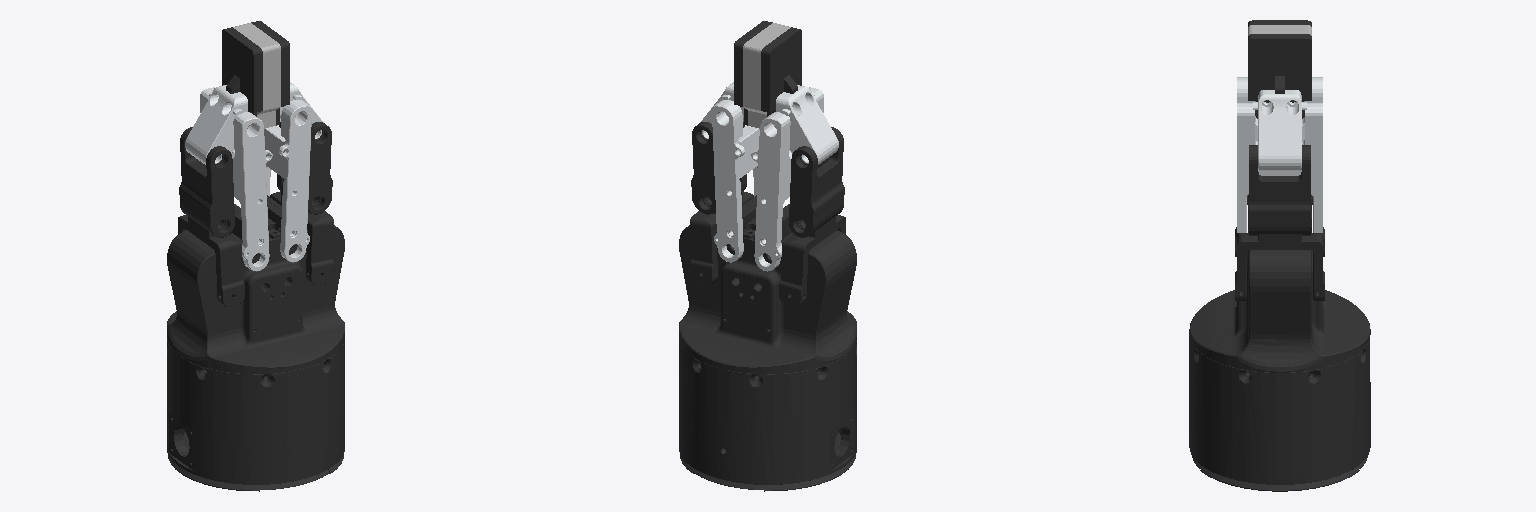
The robot description file, URDF, robot "eg01_p5_5_sw2urdf":
<?xml version="1.0" encoding="utf-8"?>
<!-- This URDF was automatically created by SolidWorks to URDF Exporter! Originally created by [author] ([email redacted]) 
     Commit Version: 1.6.0-4-g7f85cfe  Build Version: 1.6.7995.38578
     For more information, please see http://wiki.ros.org/sw_urdf_exporter -->
<robot
  name="eg01_p5_5_sw2urdf">

  <mujoco>
    <compiler meshdir="..\meshes" balanceinertia="false" discardvisual="false"/>
  </mujoco>

  <link
    name="base_link">
    <inertial>
      <origin
        xyz="7.44593792469313E-05 -6.05931377825923E-06 0.0539848053485706"
        rpy="0 0 0" />
      <mass
        value="0.429582066230593" />
      <inertia
        ixx="0.00029896106299929"
        ixy="-8.6388093366694E-12"
        ixz="6.23679934372197E-07"
        iyy="0.000399300131753147"
        iyz="-1.89873022075268E-08"
        izz="0.000413954589740284" />
    </inertial>
    <visual>
      <origin
        xyz="0 0 0"
        rpy="0 0 0" />
      <geometry>
        <mesh
          filename="package://eg01_p5_5_sw2urdf/meshes/base_link.STL" />
      </geometry>
      <material
        name="">
        <color
          rgba="0.250980392156863 0.250980392156863 0.250980392156863 1" />
      </material>
    </visual>
    <collision>
      <origin
        xyz="0 0 0"
        rpy="0 0 0" />
      <geometry>
        <mesh
          filename="package://eg01_p5_5_sw2urdf/meshes/base_link.STL" />
      </geometry>
    </collision>
  </link>
  <link
    name="Left_L1">
    <inertial>
      <origin
        xyz="1.43904098387493E-07 -3.34855326372341E-09 0.0211387998971081"
        rpy="0 0 0" />
      <mass
        value="0.0202960488980778" />
      <inertia
        ixx="6.30266208191649E-06"
        ixy="4.47538448710154E-13"
        ixz="-2.98133851271058E-09"
        iyy="2.92633983907152E-06"
        iyz="8.34664732796819E-14"
        izz="3.87087931140996E-06" />
    </inertial>
    <visual>
      <origin
        xyz="0 0 0"
        rpy="0 0 0" />
      <geometry>
        <mesh
          filename="package://eg01_p5_5_sw2urdf/meshes/Left_L1.STL" />
      </geometry>
      <material
        name="">
        <color
          rgba="0.250980392156863 0.250980392156863 0.250980392156863 1" />
      </material>
    </visual>
    <collision>
      <origin
        xyz="0 0 0"
        rpy="0 0 0" />
      <geometry>
        <mesh
          filename="package://eg01_p5_5_sw2urdf/meshes/Left_L1.STL" />
      </geometry>
    </collision>
  </link>
  <joint
    name="Left_J1"
    type="revolute">
    <origin
      xyz="-0.0240000499523323 0 0.095699997817228"
      rpy="0 -0.0436685838558384 0" />
    <parent
      link="base_link" />
    <child
      link="Left_L1" />
    <axis
      xyz="0 1 0" />
    <limit
      lower="-1.571"
      upper="1.571"
      effort="50"
      velocity="50" />
  </joint>
  <link
    name="Left_L2">
    <inertial>
      <origin
        xyz="-0.000647192263089253 -2.92503751228311E-09 0.0156751455321069"
        rpy="0 0 0" />
      <mass
        value="0.0233775173353231" />
      <inertia
        ixx="4.19195319592145E-06"
        ixy="3.5171463174931E-14"
        ixz="-9.51967476259919E-08"
        iyy="2.33740847027707E-06"
        iyz="1.09337582141081E-12"
        izz="2.50717767452369E-06" />
    </inertial>
    <visual>
      <origin
        xyz="0 0 0"
        rpy="0 0 0" />
      <geometry>
        <mesh
          filename="package://eg01_p5_5_sw2urdf/meshes/Left_L2.STL" />
      </geometry>
      <material
        name="">
        <color
          rgba="0.250980392156863 0.250980392156863 0.250980392156863 1" />
      </material>
    </visual>
    <collision>
      <origin
        xyz="0 0 0"
        rpy="0 0 0" />
      <geometry>
        <mesh
          filename="package://eg01_p5_5_sw2urdf/meshes/Left_L2.STL" />
      </geometry>
    </collision>
  </link>
  <joint
    name="Left_J2"
    type="revolute">
    <origin
      xyz="0 0 0.034"
      rpy="0 0 0" />
    <parent
      link="Left_L1" />
    <child
      link="Left_L2" />
    <axis
      xyz="0 -1 0" />
    <limit
      lower="-1.571"
      upper="1.571"
      effort="50"
      velocity="50" />
  </joint>
  <link
    name="Left_L3">
    <inertial>
      <origin
        xyz="-0.00116141401960185 -1.43012435769062E-10 0.0117955281118583"
        rpy="0 0 0" />
      <mass
        value="0.0213906199756841" />
      <inertia
        ixx="2.48837578509039E-06"
        ixy="2.56080541785578E-13"
        ixz="2.04680899233398E-07"
        iyy="2.14702464916587E-06"
        iyz="-4.91986473903457E-13"
        izz="1.08656518460548E-06" />
    </inertial>
    <visual>
      <origin
        xyz="0 0 0"
        rpy="0 0 0" />
      <geometry>
        <mesh
          filename="package://eg01_p5_5_sw2urdf/meshes/Left_L3.STL" />
      </geometry>
      <material
        name="">
        <color
          rgba="0.898039215686275 0.917647058823529 0.929411764705882 1" />
      </material>
    </visual>
    <collision>
      <origin
        xyz="0 0 0"
        rpy="0 0 0" />
      <geometry>
        <mesh
          filename="package://eg01_p5_5_sw2urdf/meshes/Left_L3.STL" />
      </geometry>
    </collision>
  </link>
  <joint
    name="Left_J3"
    type="revolute">
    <origin
      xyz="0 0 0.0339999999999633"
      rpy="0 0.79467972163649 0" />
    <parent
      link="Left_L2" />
    <child
      link="Left_L3" />
    <axis
      xyz="0 -1 0" />
    <limit
      lower="-1.571"
      upper="1.571"
      effort="50"
      velocity="50" />
  </joint>
  <link
    name="Left_finger_plate">
    <inertial>
      <origin
        xyz="-5.97922808132605E-16 -0.0164872120835624 -0.002511279045092"
        rpy="0 0 0" />
      <mass
        value="0.0154688456687465" />
      <inertia
        ixx="1.89407053897812E-06"
        ixy="1.19028961051229E-21"
        ixz="4.1112323618535E-23"
        iyy="1.10536981639249E-06"
        iyz="2.51854419537877E-08"
        izz="2.92180253260638E-06" />
    </inertial>
    <visual>
      <origin
        xyz="0 0 0"
        rpy="0 0 0" />
      <geometry>
        <mesh
          filename="package://eg01_p5_5_sw2urdf/meshes/Left_finger_plate.STL" />
      </geometry>
      <material
        name="">
        <color
          rgba="0.250980392156863 0.250980392156863 0.250980392156863 1" />
      </material>
    </visual>
    <collision>
      <origin
        xyz="0 0 0"
        rpy="0 0 0" />
      <geometry>
        <mesh
          filename="package://eg01_p5_5_sw2urdf/meshes/Left_finger_plate.STL" />
      </geometry>
    </collision>
  </link>
  <joint
    name="fix_Left_finger_plate"
    type="fixed">
    <origin
      xyz="0.000145845916247972 0 0.024760133131013"
      rpy="-2.32181150391728 0 1.5707963267949" />
    <parent
      link="Left_L3" />
    <child
      link="Left_finger_plate" />
    <axis
      xyz="0 0 0" />
  </joint>
  <link
    name="Left_finger_rubber">
    <inertial>
      <origin
        xyz="-5.97822322796637E-16 -0.0143595610551673 -0.00749999999984534"
        rpy="0 0 0" />
      <mass
        value="0.007592949952427" />
      <inertia
        ixx="1.13976905041448E-06"
        ixy="1.12778587533801E-21"
        ixz="-5.83235302222603E-23"
        iyy="5.29290272646812E-07"
        iyz="1.19374966327374E-17"
        izz="1.63742203159284E-06" />
    </inertial>
    <visual>
      <origin
        xyz="0 0 0"
        rpy="0 0 0" />
      <geometry>
        <mesh
          filename="package://eg01_p5_5_sw2urdf/meshes/Left_finger_rubber.STL" />
      </geometry>
      <material
        name="">
        <color
          rgba="0.752941176470588 0.752941176470588 0.752941176470588 1" />
      </material>
    </visual>
    <collision>
      <origin
        xyz="0 0 0"
        rpy="0 0 0" />
      <geometry>
        <mesh
          filename="package://eg01_p5_5_sw2urdf/meshes/Left_finger_rubber.STL" />
      </geometry>
    </collision>
  </link>
  <joint
    name="fix_Left_finger_rubber"
    type="fixed">
    <origin
      xyz="0 0 0"
      rpy="0 0 0" />
    <parent
      link="Left_finger_plate" />
    <child
      link="Left_finger_rubber" />
    <axis
      xyz="0 0 0" />
  </joint>
  <link
    name="Left_L4">
    <inertial>
      <origin
        xyz="-0.000775167366935376 1.18347949065981E-09 0.0401950668707313"
        rpy="0 0 0" />
      <mass
        value="0.0414352233342608" />
      <inertia
        ixx="2.23144284823025E-05"
        ixy="-1.08967853282723E-13"
        ixz="1.13022036160236E-08"
        iyy="1.3939971641353E-05"
        iyz="-6.14408384889434E-13"
        izz="9.29223699317336E-06" />
    </inertial>
    <visual>
      <origin
        xyz="0 0 0"
        rpy="0 0 0" />
      <geometry>
        <mesh
          filename="package://eg01_p5_5_sw2urdf/meshes/Left_L4.STL" />
      </geometry>
      <material
        name="">
        <color
          rgba="0.898039215686275 0.917647058823529 0.929411764705882 1" />
      </material>
    </visual>
    <collision>
      <origin
        xyz="0 0 0"
        rpy="0 0 0" />
      <geometry>
        <mesh
          filename="package://eg01_p5_5_sw2urdf/meshes/Left_L4.STL" />
      </geometry>
    </collision>
  </link>
  <joint
    name="Left_J4"
    type="revolute">
    <origin
      xyz="-0.01 0 0.1107"
      rpy="0 -0.0436332312998548 0" />
    <parent
      link="base_link" />
    <child
      link="Left_L4" />
    <axis
      xyz="0 1 0" />
    <limit
      lower="-1.571"
      upper="1.571"
      effort="50"
      velocity="50" />
  </joint>
  <link
    name="Right_L1">
    <inertial>
      <origin
        xyz="9.3904098392994E-08 -3.34855202920757E-09 0.0211387998970713"
        rpy="0 0 0" />
      <mass
        value="0.0202960488980778" />
      <inertia
        ixx="6.30266208191649E-06"
        ixy="4.47538448927079E-13"
        ixz="-2.98133851271068E-09"
        iyy="2.92633983907152E-06"
        iyz="8.34664727298746E-14"
        izz="3.87087931140995E-06" />
    </inertial>
    <visual>
      <origin
        xyz="0 0 0"
        rpy="0 0 0" />
      <geometry>
        <mesh
          filename="package://eg01_p5_5_sw2urdf/meshes/Right_L1.STL" />
      </geometry>
      <material
        name="">
        <color
          rgba="0.250980392156863 0.250980392156863 0.250980392156863 1" />
      </material>
    </visual>
    <collision>
      <origin
        xyz="0 0 0"
        rpy="0 0 0" />
      <geometry>
        <mesh
          filename="package://eg01_p5_5_sw2urdf/meshes/Right_L1.STL" />
      </geometry>
    </collision>
  </link>
  <joint
    name="Right_J1"
    type="revolute">
    <origin
      xyz="0.024 0 0.0957"
      rpy="0 -0.0436685838558384 -3.14159265358979" />
    <parent
      link="base_link" />
    <child
      link="Right_L1" />
    <axis
      xyz="0 -1 0" />
    <limit
      lower="-1.571"
      upper="1.571"
      effort="50"
      velocity="50" />
  </joint>
  <link
    name="Right_L2">
    <inertial>
      <origin
        xyz="-0.000647192263089246 -2.9250362334446E-09 0.0156751455321069"
        rpy="0 0 0" />
      <mass
        value="0.0233775173353231" />
      <inertia
        ixx="4.19195319592145E-06"
        ixy="3.51714625855283E-14"
        ixz="-9.51967476259913E-08"
        iyy="2.33740847027707E-06"
        iyz="1.09337582151108E-12"
        izz="2.50717767452369E-06" />
    </inertial>
    <visual>
      <origin
        xyz="0 0 0"
        rpy="0 0 0" />
      <geometry>
        <mesh
          filename="package://eg01_p5_5_sw2urdf/meshes/Right_L2.STL" />
      </geometry>
      <material
        name="">
        <color
          rgba="0.250980392156863 0.250980392156863 0.250980392156863 1" />
      </material>
    </visual>
    <collision>
      <origin
        xyz="0 0 0"
        rpy="0 0 0" />
      <geometry>
        <mesh
          filename="package://eg01_p5_5_sw2urdf/meshes/Right_L2.STL" />
      </geometry>
    </collision>
  </link>
  <joint
    name="Right_J2"
    type="revolute">
    <origin
      xyz="0 0 0.0339999999999633"
      rpy="0 0 0" />
    <parent
      link="Right_L1" />
    <child
      link="Right_L2" />
    <axis
      xyz="0 -1 0" />
    <limit
      lower="-1.571"
      upper="1.571"
      effort="50"
      velocity="50" />
  </joint>
  <link
    name="Right_L3">
    <inertial>
      <origin
        xyz="-0.00116141401960185 -1.43011183481417E-10 0.0117955281118583"
        rpy="0 0 0" />
      <mass
        value="0.021390619975684" />
      <inertia
        ixx="2.48837578509039E-06"
        ixy="2.56080541555241E-13"
        ixz="2.04680899233397E-07"
        iyy="2.14702464916586E-06"
        iyz="-4.91986474301754E-13"
        izz="1.08656518460548E-06" />
    </inertial>
    <visual>
      <origin
        xyz="0 0 0"
        rpy="0 0 0" />
      <geometry>
        <mesh
          filename="package://eg01_p5_5_sw2urdf/meshes/Right_L3.STL" />
      </geometry>
      <material
        name="">
        <color
          rgba="0.898039215686275 0.917647058823529 0.929411764705882 1" />
      </material>
    </visual>
    <collision>
      <origin
        xyz="0 0 0"
        rpy="0 0 0" />
      <geometry>
        <mesh
          filename="package://eg01_p5_5_sw2urdf/meshes/Right_L3.STL" />
      </geometry>
    </collision>
  </link>
  <joint
    name="Right_J3"
    type="revolute">
    <origin
      xyz="0 0 0.0339999999999633"
      rpy="0 0.79467972163649 0" />
    <parent
      link="Right_L2" />
    <child
      link="Right_L3" />
    <axis
      xyz="0 -1 0" />
    <limit
      lower="-1.571"
      upper="1.571"
      effort="50"
      velocity="50" />
  </joint>
  <link
    name="Right_finger_plate">
    <inertial>
      <origin
        xyz="5.93746999716511E-16 0.0164872222272687 0.00251121244759086"
        rpy="0 0 0" />
      <mass
        value="0.0154688456687465" />
      <inertia
        ixx="1.89407053897812E-06"
        ixy="1.14102606640059E-21"
        ixz="-7.58918965532505E-23"
        iyy="1.10537001988733E-06"
        iyz="2.5192779145447E-08"
        izz="2.92180232911153E-06" />
    </inertial>
    <visual>
      <origin
        xyz="0 0 0"
        rpy="0 0 0" />
      <geometry>
        <mesh
          filename="package://eg01_p5_5_sw2urdf/meshes/Right_finger_plate.STL" />
      </geometry>
      <material
        name="">
        <color
          rgba="0.250980392156863 0.250980392156863 0.250980392156863 1" />
      </material>
    </visual>
    <collision>
      <origin
        xyz="0 0 0"
        rpy="0 0 0" />
      <geometry>
        <mesh
          filename="package://eg01_p5_5_sw2urdf/meshes/Right_finger_plate.STL" />
      </geometry>
    </collision>
  </link>
  <joint
    name="fix_Right_finger_plate"
    type="fixed">
    <origin
      xyz="0.000145845916195486 0 0.0247601331310644"
      rpy="0.819785189014245 0 1.5707963267949" />
    <parent
      link="Right_L3" />
    <child
      link="Right_finger_plate" />
    <axis
      xyz="0 0 0" />
  </joint>
  <link
    name="Right_finger_rubber">
    <inertial>
      <origin
        xyz="-5.94583847513297E-16 -0.014359500464411 -0.00750011600625847"
        rpy="0 0 0" />
      <mass
        value="0.007592949952427" />
      <inertia
        ixx="1.13976905041448E-06"
        ixy="1.09592926202968E-21"
        ixz="8.72021221342692E-23"
        iyy="5.29290272719135E-07"
        iyz="-8.95225766266342E-12"
        izz="1.63742203152052E-06" />
    </inertial>
    <visual>
      <origin
        xyz="0 0 0"
        rpy="0 0 0" />
      <geometry>
        <mesh
          filename="package://eg01_p5_5_sw2urdf/meshes/Right_finger_rubber.STL" />
      </geometry>
      <material
        name="">
        <color
          rgba="0.752941176470588 0.752941176470588 0.752941176470588 1" />
      </material>
    </visual>
    <collision>
      <origin
        xyz="0 0 0"
        rpy="0 0 0" />
      <geometry>
        <mesh
          filename="package://eg01_p5_5_sw2urdf/meshes/Right_finger_rubber.STL" />
      </geometry>
    </collision>
  </link>
  <joint
    name="fix_Right_finger_rubber"
    type="fixed">
    <origin
      xyz="0 0 0.0149999999998809"
      rpy="0 0 -3.14159265358979" />
    <parent
      link="Right_finger_plate" />
    <child
      link="Right_finger_rubber" />
    <axis
      xyz="0 0 0" />
  </joint>
  <link
    name="Right_L4">
    <inertial>
      <origin
        xyz="-0.000775167366935377 1.18348061769404E-09 0.0401950668707313"
        rpy="0 0 0" />
      <mass
        value="0.0414352233342607" />
      <inertia
        ixx="2.23144284823025E-05"
        ixy="-1.08967849057101E-13"
        ixz="1.13022036160191E-08"
        iyy="1.3939971641353E-05"
        iyz="-6.14408388397806E-13"
        izz="9.29223699317336E-06" />
    </inertial>
    <visual>
      <origin
        xyz="0 0 0"
        rpy="0 0 0" />
      <geometry>
        <mesh
          filename="package://eg01_p5_5_sw2urdf/meshes/Right_L4.STL" />
      </geometry>
      <material
        name="">
        <color
          rgba="0.898039215686275 0.917647058823529 0.929411764705882 1" />
      </material>
    </visual>
    <collision>
      <origin
        xyz="0 0 0"
        rpy="0 0 0" />
      <geometry>
        <mesh
          filename="package://eg01_p5_5_sw2urdf/meshes/Right_L4.STL" />
      </geometry>
    </collision>
  </link>
  <joint
    name="Right_J4"
    type="revolute">
    <origin
      xyz="0.01 0 0.1107"
      rpy="0 -0.0436332312998548 -3.14159265358979" />
    <parent
      link="base_link" />
    <child
      link="Right_L4" />
    <axis
      xyz="0 -1 0" />
    <limit
      lower="-1.571"
      upper="1.571"
      effort="50"
      velocity="50" />
  </joint>
</robot>

--- What the picture shows (computed from the rendered views, not written in the file) ---
3 views of the same robot in one strip: view 1: azimuth 30°, elevation 25°; view 2: azimuth 150°, elevation 25°; view 3: azimuth 270°, elevation 25° (orthographic).
Robot: eg01_p5_5_sw2urdf — 13 links, 12 joints (8 revolute, 4 fixed); root link base_link; default pose: all joints at 0.
Visible links, largest first — view 1: base_link, Right_L4, Left_L4, Left_L2, Left_L3, Left_finger_plate, Left_L1, Right_L1, Right_L2, Right_finger_rubber, Left_finger_rubber, Right_finger_plate; view 2: base_link, Right_L4, Left_L4, Left_L2, Left_L3, Left_finger_plate, Left_L1, Right_L1, Right_L2, Right_finger_rubber, Left_finger_rubber, Right_finger_plate; view 3: base_link, Right_L2, Right_finger_plate, Right_L4, Right_L3, Right_L1, Left_L4.
Boxes of the visible links, x1=… form: base_link: x1=167, y1=195, x2=344, y2=491; Right_L4: x1=264, y1=100, x2=311, y2=262; Left_L4: x1=200, y1=87, x2=272, y2=271; Left_L2: x1=179, y1=127, x2=234, y2=237; Left_L3: x1=185, y1=85, x2=249, y2=164; Left_finger_plate: x1=222, y1=27, x2=262, y2=116; Left_L1: x1=178, y1=215, x2=244, y2=306; Right_L1: x1=270, y1=179, x2=333, y2=284; Right_L2: x1=277, y1=122, x2=332, y2=214; Right_finger_rubber: x1=243, y1=23, x2=280, y2=127; Left_finger_rubber: x1=233, y1=25, x2=271, y2=128; Right_finger_plate: x1=251, y1=21, x2=289, y2=125; base_link: x1=679, y1=195, x2=856, y2=491; Right_L4: x1=712, y1=100, x2=759, y2=262; Left_L4: x1=751, y1=87, x2=823, y2=271; Left_L2: x1=789, y1=127, x2=844, y2=237; Left_L3: x1=774, y1=85, x2=838, y2=164; Left_finger_plate: x1=761, y1=27, x2=801, y2=116; Left_L1: x1=779, y1=215, x2=845, y2=306; Right_L1: x1=690, y1=179, x2=753, y2=284; Right_L2: x1=691, y1=122, x2=746, y2=214; Right_finger_rubber: x1=743, y1=23, x2=780, y2=127; Left_finger_rubber: x1=752, y1=25, x2=790, y2=128; Right_finger_plate: x1=734, y1=21, x2=772, y2=125; base_link: x1=1189, y1=195, x2=1370, y2=491; Right_L2: x1=1249, y1=145, x2=1310, y2=235; Right_finger_plate: x1=1248, y1=34, x2=1311, y2=102; Right_L4: x1=1237, y1=103, x2=1322, y2=232; Right_L3: x1=1253, y1=90, x2=1306, y2=170; Right_L1: x1=1235, y1=233, x2=1324, y2=300; Left_L4: x1=1237, y1=77, x2=1322, y2=141.
Size in the robot's own frame: 0.084 by 0.084 by 0.2169 metres.
Meshes: 13 distinct files referenced, 13 mesh visuals loaded (13 binary STL).
